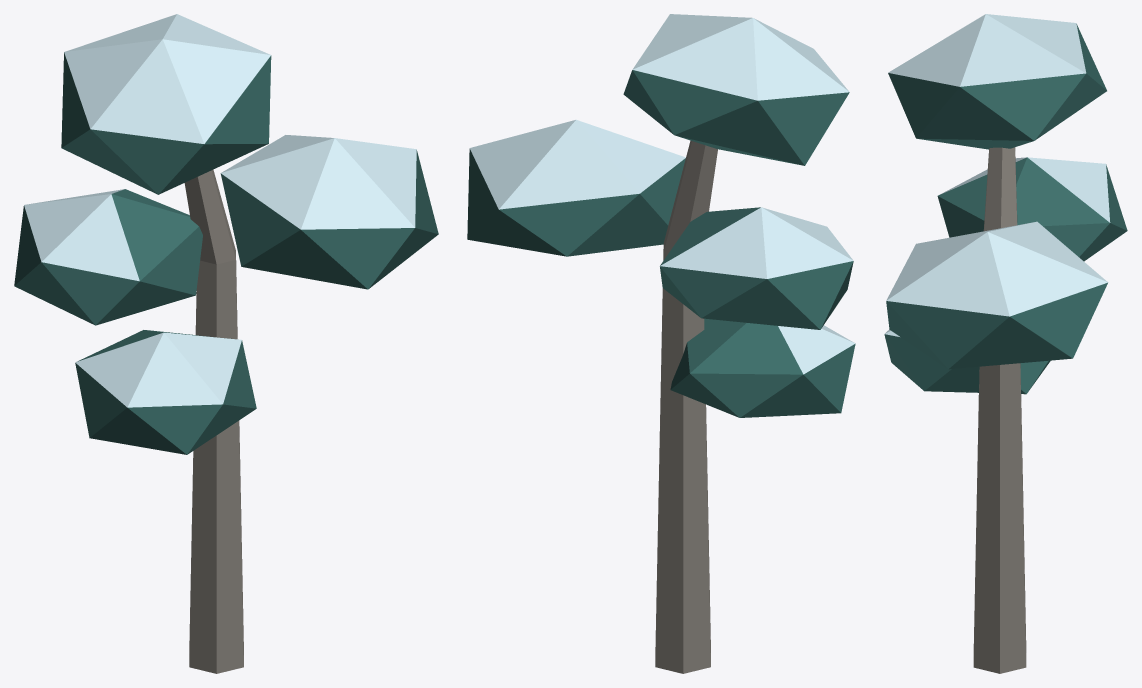
Rendered from SM_Env_Generic_Tree_Birch_01_Snow.fbx.
3 renders of one model, left to right at view 1: azimuth 30°, elevation 25°; view 2: azimuth 150°, elevation 25°; view 3: azimuth 270°, elevation 25°, orthographic. The views are drawn at different scales.
Visible parts, largest first — view 1: SM_Env_Generic_Tree_Birch_01_Snow; view 2: SM_Env_Generic_Tree_Birch_01_Snow; view 3: SM_Env_Generic_Tree_Birch_01_Snow.
Boxes of the visible parts, box(x1,y1,x2,y2) form: SM_Env_Generic_Tree_Birch_01_Snow: box(14, 14, 438, 673); SM_Env_Generic_Tree_Birch_01_Snow: box(467, 14, 855, 673); SM_Env_Generic_Tree_Birch_01_Snow: box(884, 14, 1127, 673).
Bounding box in the file's own units: 57.64 × 93.84 × 33.47.
Materials: 1 (1 with a texture image).
